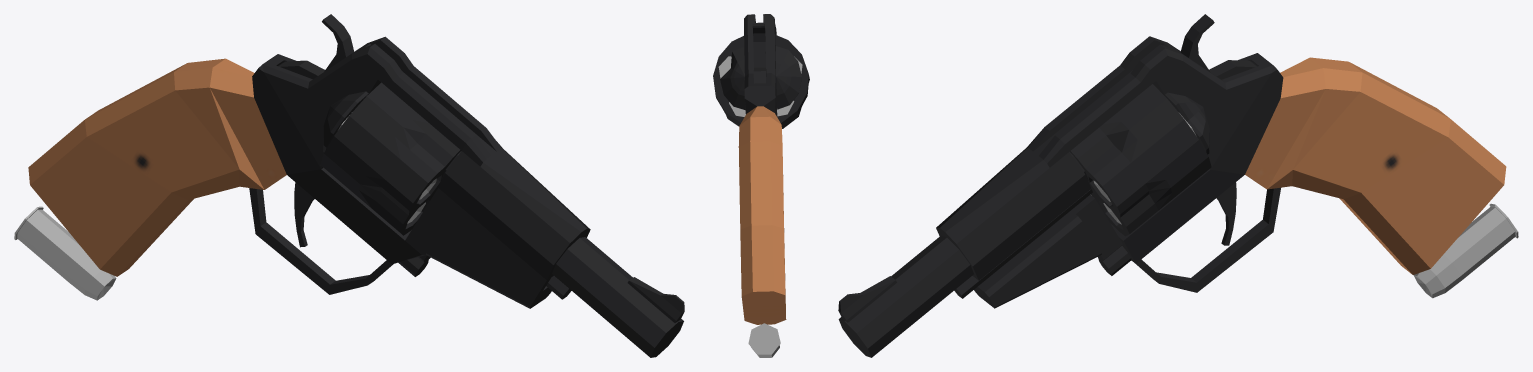
Rendered from Draw.fbx.
The picture shows the model from 3 angles, left to right: view 1: azimuth 30°, elevation 25°; view 2: azimuth 150°, elevation 25°; view 3: azimuth 270°, elevation 25°; orthographic projection. The views are drawn at different scales.
Parts seen in each view (by area): view 1: Body, Cylender, Barrle, ShellExtra, Hammer, BulletExtra, Trigger; view 2: Body, Cylender, ShellExtra, Hammer, Shell2, Shell4, Shell3; view 3: Body, Cylender, Barrle, ShellExtra, Arm, Hammer, BulletExtra, rod, Trigger.
Boxes of the visible parts, x1=… form: Body: x1=28, y1=36, x2=590, y2=308; Cylender: x1=320, y1=82, x2=461, y2=235; Barrle: x1=441, y1=151, x2=684, y2=357; ShellExtra: x1=14, y1=206, x2=87, y2=282; Hammer: x1=278, y1=14, x2=353, y2=79; BulletExtra: x1=69, y1=255, x2=116, y2=300; Trigger: x1=294, y1=182, x2=314, y2=247; Body: x1=720, y1=14, x2=801, y2=324; Cylender: x1=713, y1=35, x2=809, y2=128; ShellExtra: x1=748, y1=323, x2=780, y2=357; Hammer: x1=752, y1=23, x2=766, y2=83; Shell2: x1=718, y1=56, x2=731, y2=78; Shell4: x1=777, y1=100, x2=794, y2=116; Shell3: x1=729, y1=102, x2=745, y2=116; Body: x1=936, y1=36, x2=1506, y2=308; Cylender: x1=1070, y1=84, x2=1211, y2=236; Barrle: x1=838, y1=152, x2=1088, y2=357; ShellExtra: x1=1444, y1=203, x2=1518, y2=280; Arm: x1=1071, y1=194, x2=1131, y2=275; Hammer: x1=1180, y1=14, x2=1256, y2=79; BulletExtra: x1=1413, y1=254, x2=1461, y2=298; rod: x1=954, y1=188, x2=1092, y2=298; Trigger: x1=1216, y1=182, x2=1236, y2=245.
Size of the model in its own units: 19.34 by 17.27 by 31.55.
